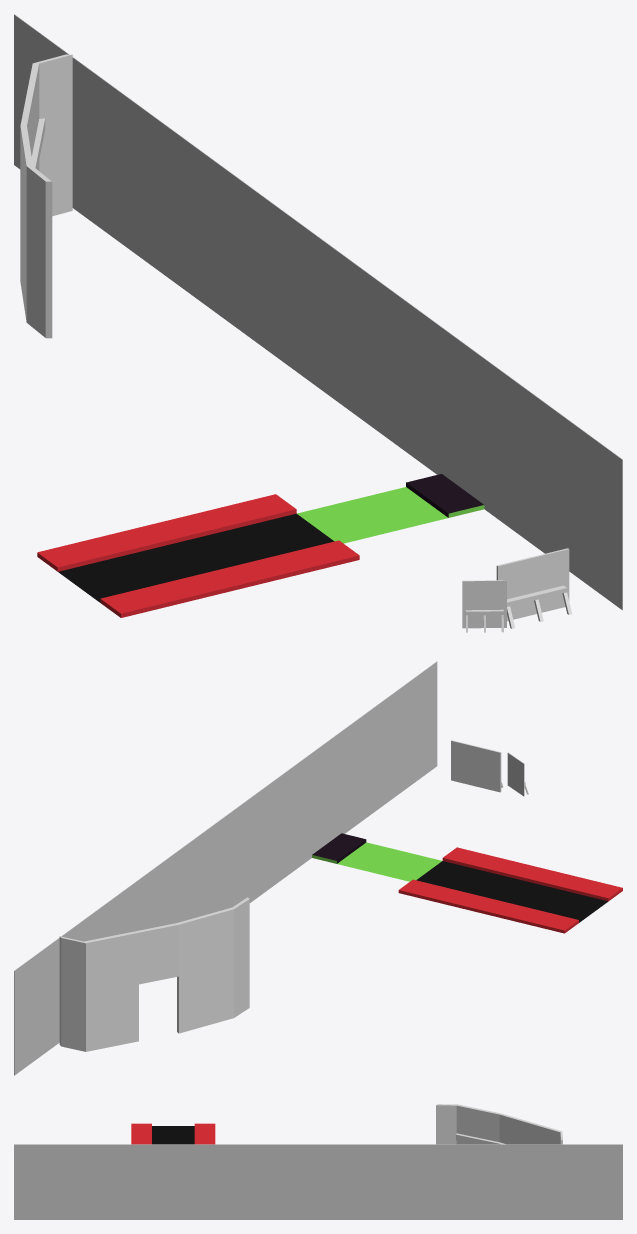
The model's file is PISO CAMARIN Y PANTALLA VERDE.fbx.
3 views of the same model, one above another, from view 1: azimuth 30°, elevation 25°; view 2: azimuth 150°, elevation 25°; view 3: azimuth 270°, elevation 25° (orthographic). The views are drawn at different scales.
Parts seen in each view (by area): view 1: Plane.022, Plane.073, Cube.009, Plane.024, Cube.035, Cube.038; view 2: Plane.022, Cube.009, Plane.073, Plane.024, Cube.035, Cube.038; view 3: Plane.022, Cube.009, Plane.073.
Part boxes in pixels (x1,y1,x2,y2): Plane.022: (14,14,622,610); Plane.073: (37,494,359,617); Cube.009: (20,54,72,338); Plane.024: (297,474,484,543); Cube.035: (496,548,571,628); Cube.038: (462,580,506,632); Plane.022: (14,661,437,1075); Cube.009: (59,897,249,1051); Plane.073: (398,847,622,933); Plane.024: (312,833,441,881); Cube.035: (451,740,503,792); Cube.038: (507,752,528,796); Plane.022: (14,1144,622,1219); Cube.009: (436,1104,562,1144); Plane.073: (131,1123,215,1144).
Bounding box in the file's own units: 12773 × 4968 × 34978.
